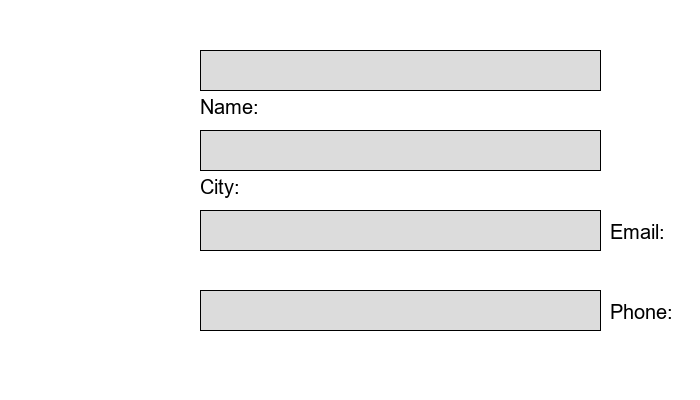Label: (610, 300, 667, 315), (200, 95, 253, 110), (610, 220, 659, 235), (200, 175, 234, 194)
Textbox: (200, 50, 600, 90), (200, 130, 600, 170), (200, 210, 600, 250), (200, 290, 600, 330)
